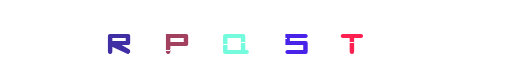5: (213, 0, 293, 80)
P: (191, 0, 271, 80)
Q: (202, 0, 282, 80)
R: (78, 0, 158, 80)
T: (255, 0, 335, 80)
